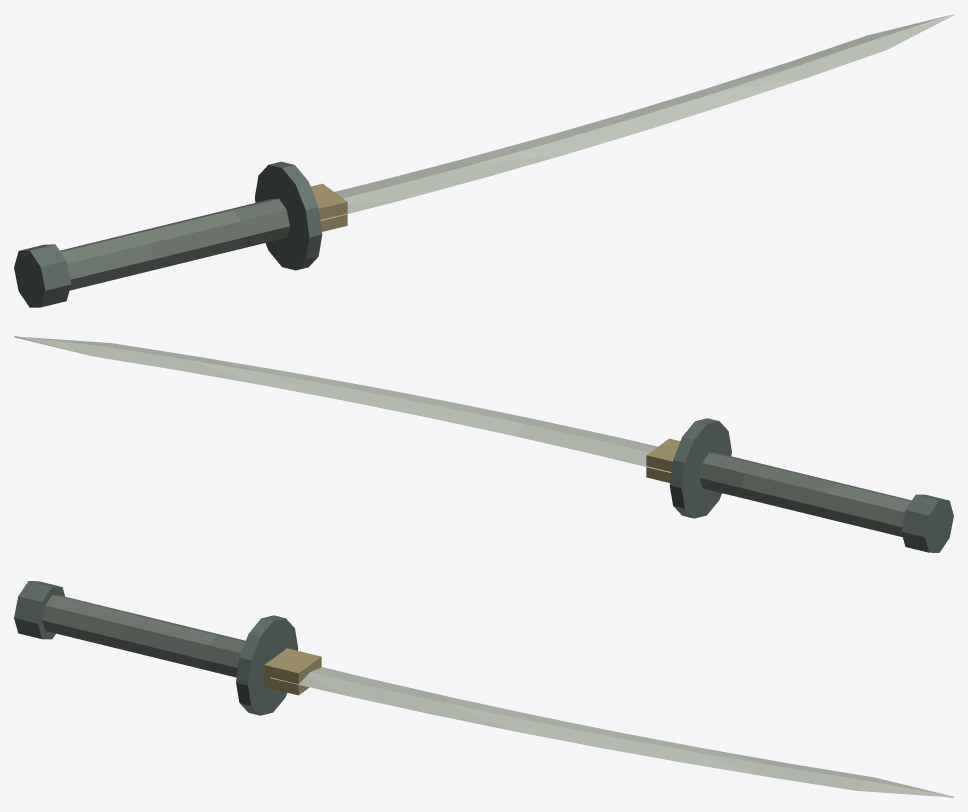
Rendered from weapon-wakizashi.glb.
The picture shows the model from 3 angles, top to bottom: view 1: azimuth 30°, elevation 25°; view 2: azimuth 150°, elevation 25°; view 3: azimuth 330°, elevation 25°; orthographic projection. The views are drawn at different scales.
Parts seen in each view (by area): view 1: weapon-wakizashi/faceted-distinct-blade, weapon-wakizashi/eight-sided-handle, weapon-wakizashi/round-tsuba, weapon-wakizashi/handle-end-pommel, weapon-wakizashi/short-blade-collar; view 2: weapon-wakizashi/faceted-distinct-blade, weapon-wakizashi/eight-sided-handle, weapon-wakizashi/round-tsuba, weapon-wakizashi/handle-end-pommel, weapon-wakizashi/short-blade-collar; view 3: weapon-wakizashi/faceted-distinct-blade, weapon-wakizashi/eight-sided-handle, weapon-wakizashi/round-tsuba, weapon-wakizashi/short-blade-collar, weapon-wakizashi/handle-end-pommel.
Boxes of the visible parts, <box> form: weapon-wakizashi/faceted-distinct-blade: <box>320,14,953,220</box>; weapon-wakizashi/eight-sided-handle: <box>60,199,289,290</box>; weapon-wakizashi/round-tsuba: <box>254,161,322,270</box>; weapon-wakizashi/handle-end-pommel: <box>14,244,71,307</box>; weapon-wakizashi/short-blade-collar: <box>311,183,347,231</box>; weapon-wakizashi/faceted-distinct-blade: <box>14,336,671,472</box>; weapon-wakizashi/eight-sided-handle: <box>699,452,911,536</box>; weapon-wakizashi/round-tsuba: <box>669,418,731,518</box>; weapon-wakizashi/handle-end-pommel: <box>901,494,953,552</box>; weapon-wakizashi/short-blade-collar: <box>646,438,680,482</box>; weapon-wakizashi/faceted-distinct-blade: <box>270,667,953,797</box>; weapon-wakizashi/eight-sided-handle: <box>42,595,245,677</box>; weapon-wakizashi/round-tsuba: <box>236,615,298,715</box>; weapon-wakizashi/short-blade-collar: <box>264,648,321,695</box>; weapon-wakizashi/handle-end-pommel: <box>14,581,64,639</box>.
Bounding box in the file's own units: 0.672 × 0.066 × 0.0817.
4 materials, 4 textured.
